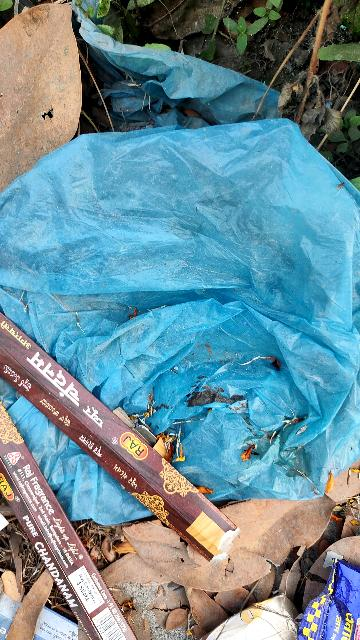polythene: (28, 120, 360, 460)
